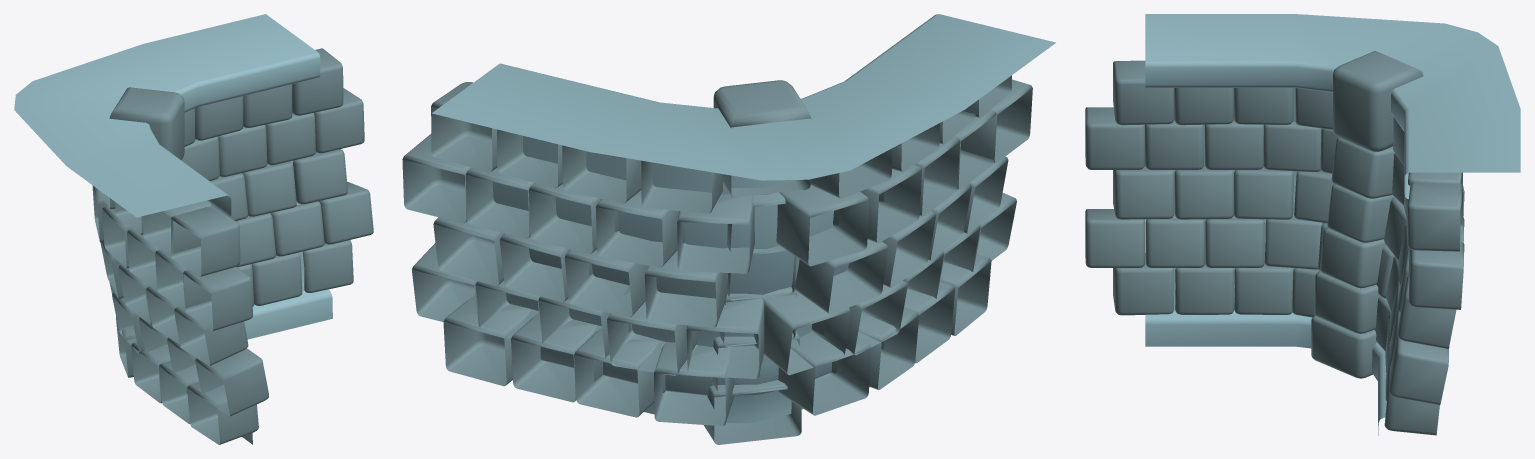
Rendered from 3_Wall_C.glb.
3 renders of one model, left to right at view 1: azimuth 30°, elevation 25°; view 2: azimuth 150°, elevation 25°; view 3: azimuth 270°, elevation 25°, orthographic. The views are drawn at different scales.
Parts seen in each view (by area): view 1: 3_Wall_C; view 2: 3_Wall_C; view 3: 3_Wall_C.
Part boxes in pixels (box(x1,y1,x2,y2)): 3_Wall_C: box(14, 14, 373, 444); 3_Wall_C: box(402, 14, 1055, 444); 3_Wall_C: box(1085, 14, 1520, 435).
Bounding box in the file's own units: 5.81 × 4.19 × 5.8.
